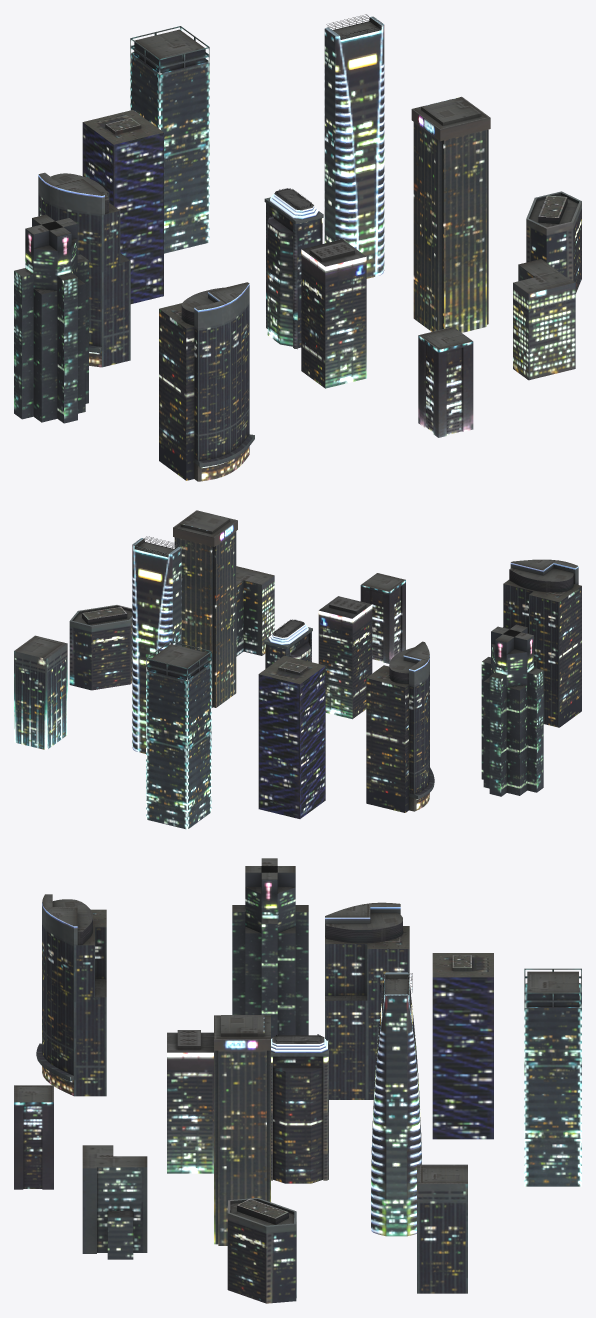
File: skyline2.glb
3 renders of one model, top to bottom at view 1: azimuth 30°, elevation 25°; view 2: azimuth 150°, elevation 25°; view 3: azimuth 270°, elevation 25°, orthographic. The views are drawn at different scales.
Parts seen in each view (by area): view 1: Cube_001_Background_Night_Buildings_0; view 2: Cube_001_Background_Night_Buildings_0; view 3: Cube_001_Background_Night_Buildings_0.
Part boxes in pixels (x1,y1,x2,y2): Cube_001_Background_Night_Buildings_0: [14, 14, 581, 481]; Cube_001_Background_Night_Buildings_0: [14, 510, 581, 829]; Cube_001_Background_Night_Buildings_0: [14, 858, 581, 1303].
Size of the model in its own units: 26 by 10.9 by 22.95.
Materials: 1 (1 with a texture image).
